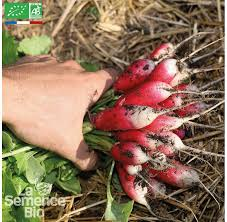raddish: (89, 97, 173, 140), (145, 152, 211, 189), (111, 49, 157, 102), (114, 159, 159, 211), (92, 133, 158, 167), (116, 80, 173, 115), (149, 52, 195, 81)
